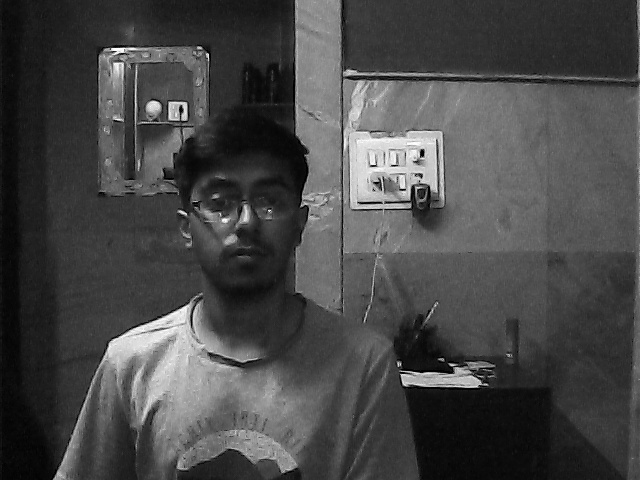nomask: (183, 153, 310, 300)
